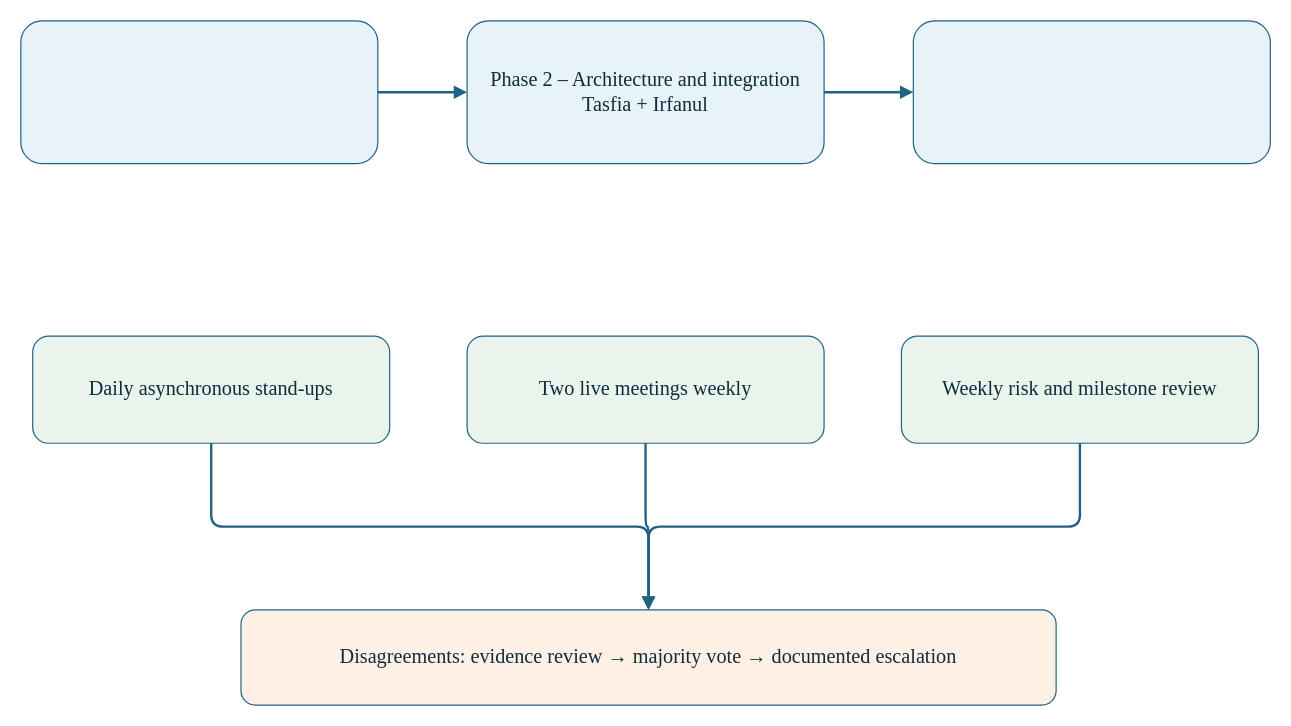
Some shapes in this 1291 by 726 pixel diagram are drawn without their labels. Here are the shapes that lost their labels. From the top down, the centre of each, then its label:
point (199, 92): Phase 1 – Initiation and scope Zarin + Aksana
point (1091, 92): Phase 3 – Testing and handover Umer + Syed
